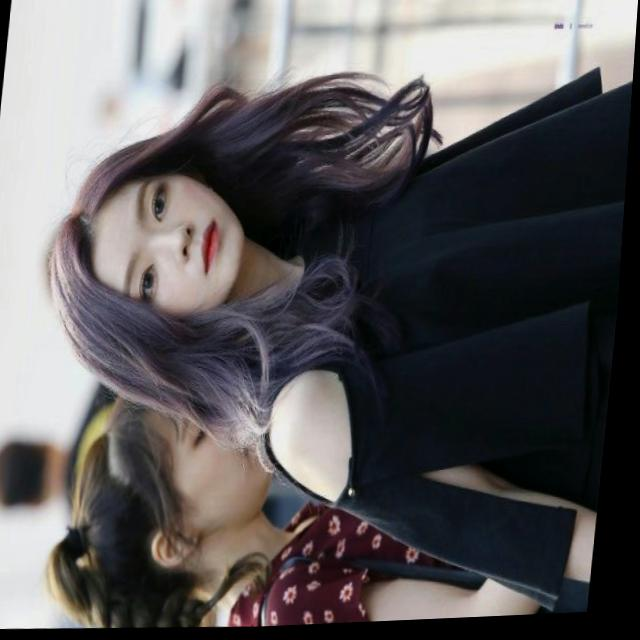face: (0, 308, 130, 470)
